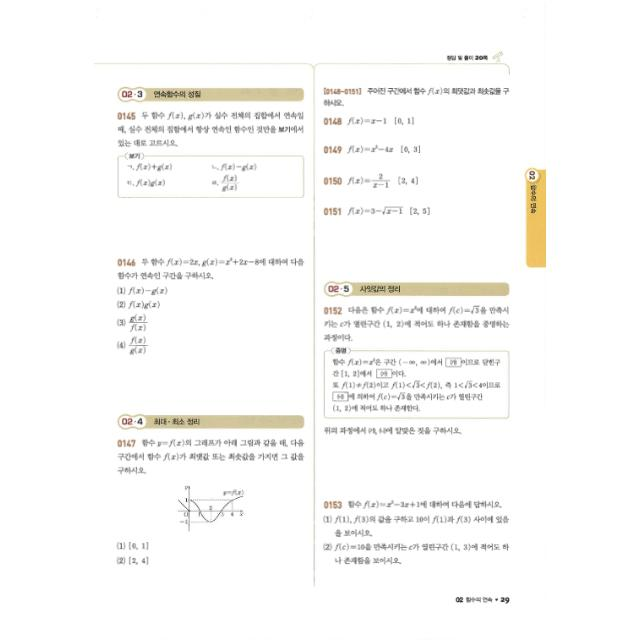many_in_one: (318, 84, 514, 110)
short: (318, 302, 520, 443), (111, 435, 307, 571), (110, 252, 308, 362), (112, 105, 308, 207), (320, 495, 518, 571)
small: (322, 168, 512, 192), (320, 110, 512, 132), (320, 140, 512, 160), (321, 202, 507, 222)
